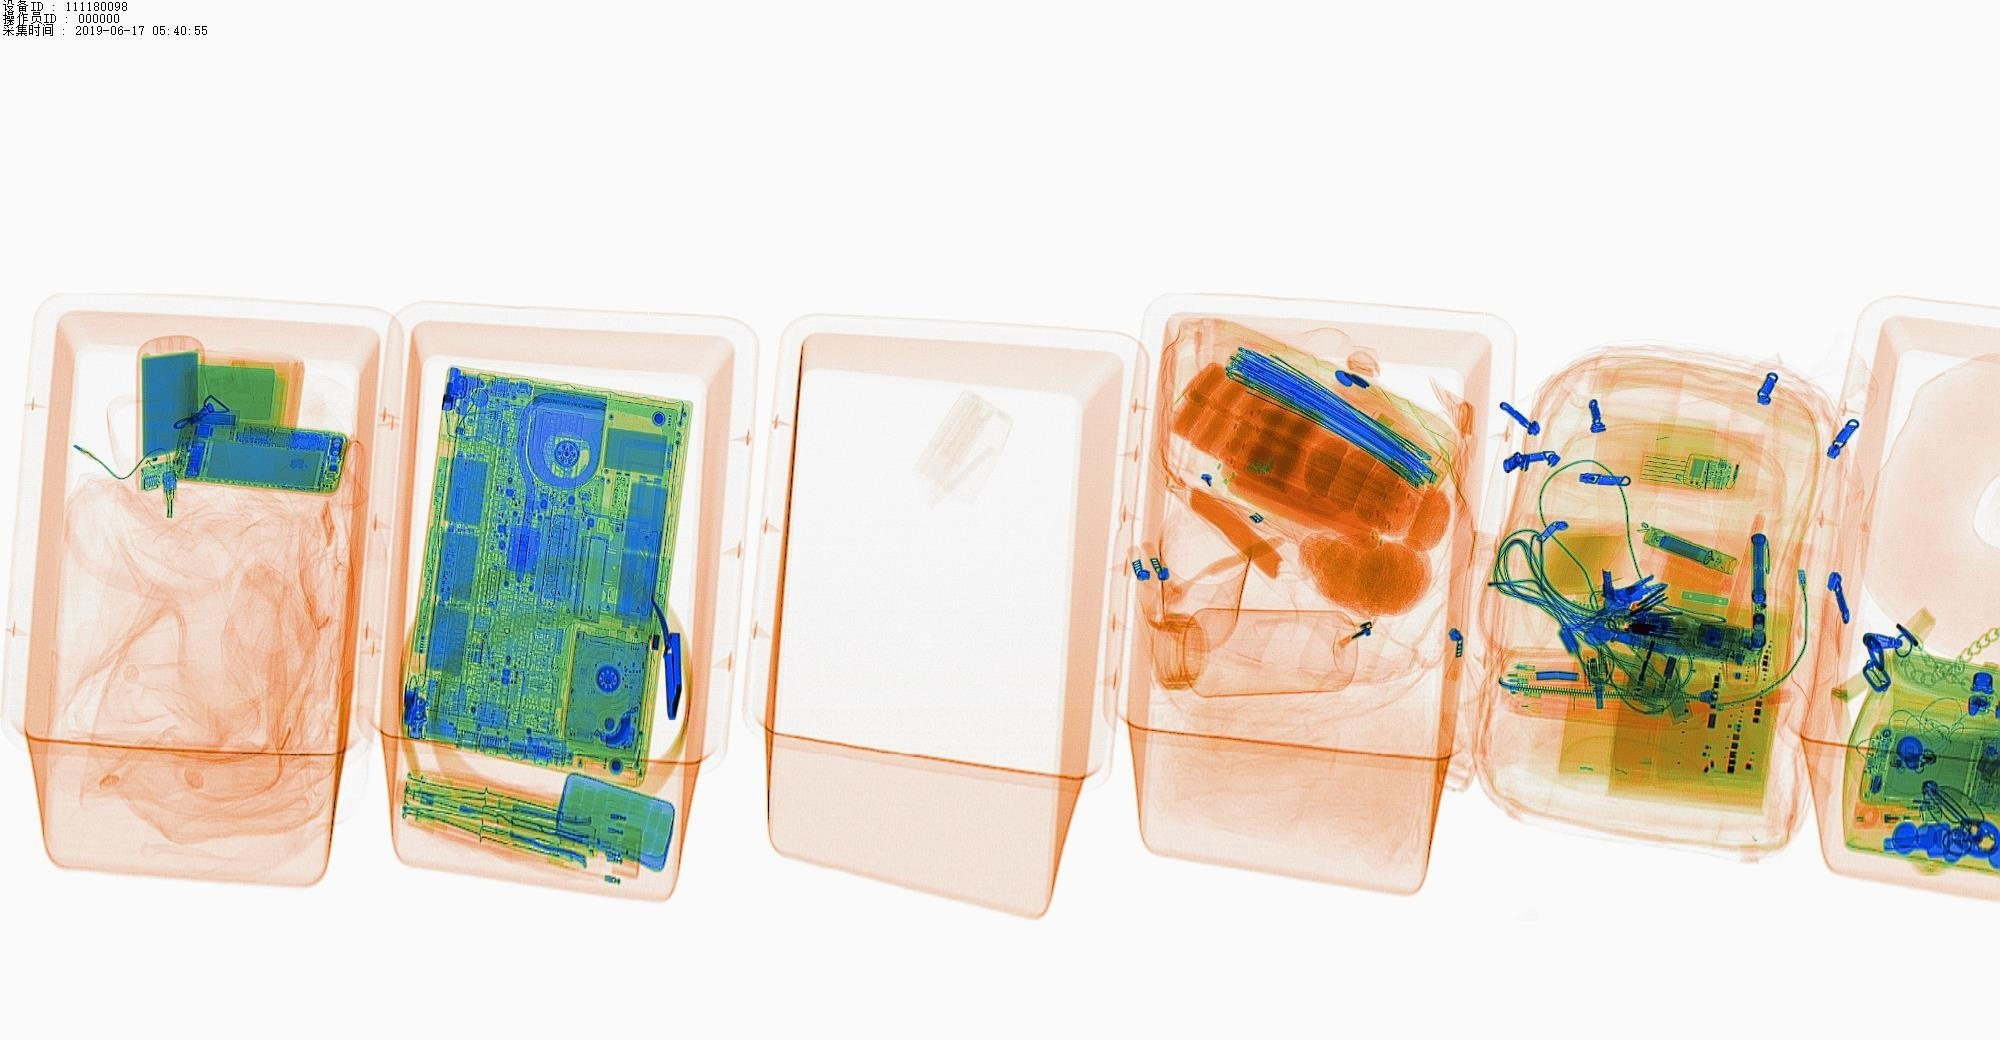NonmetallicFire: (1843, 786, 1956, 848)
